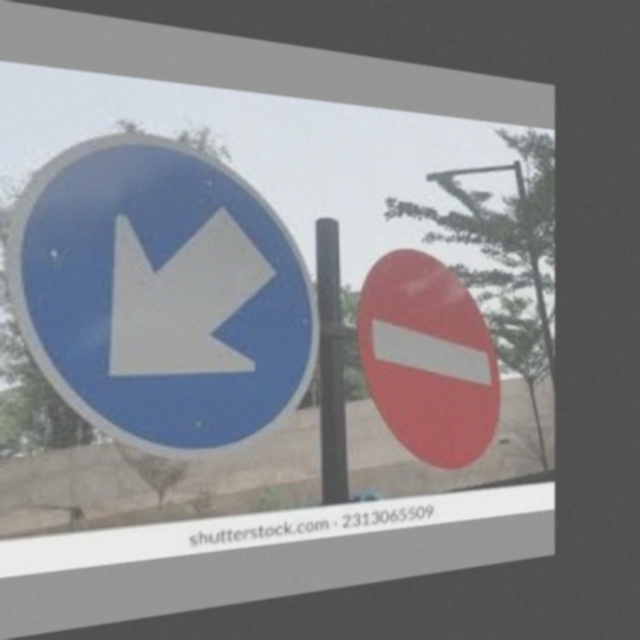Compulsory_Keep_Left: (16, 130, 325, 446)
